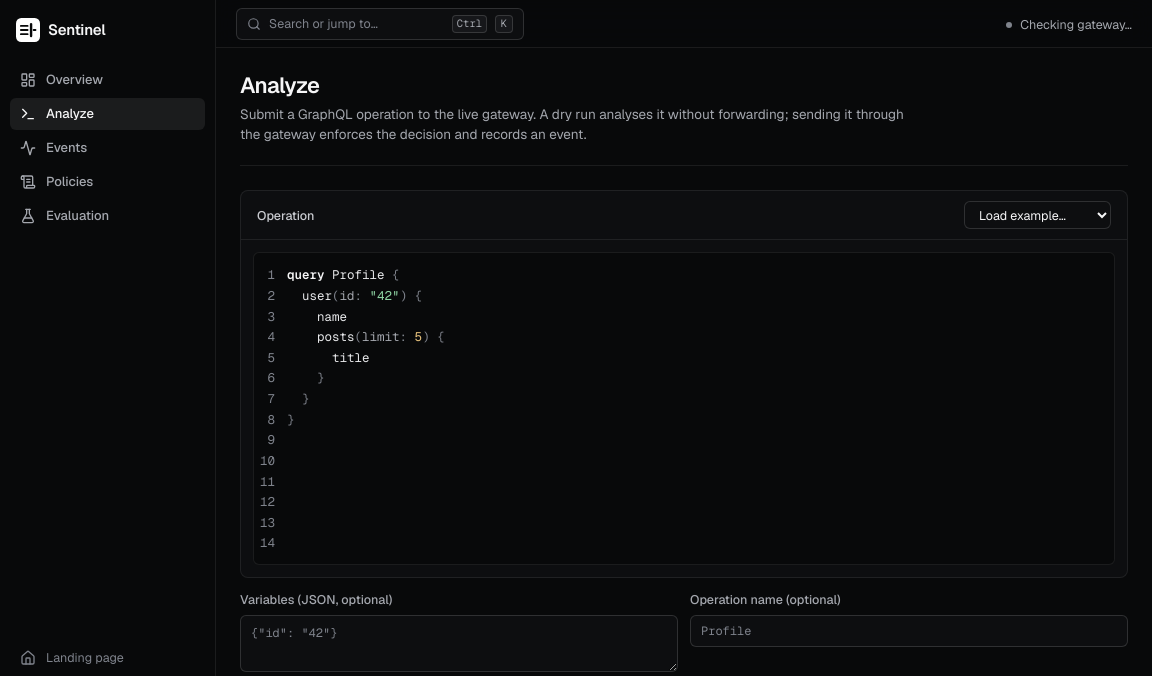
it: rejects variables that are not a JSON object
The image size is (1152, 676).
Expected: the text box named "GraphQL operation" is shown, [287,253,1114,564]
In the text box labelled "Variables (JSON, optional)": (459, 644) [240,616,678,672], type "[1,2]"
(page scrolled)
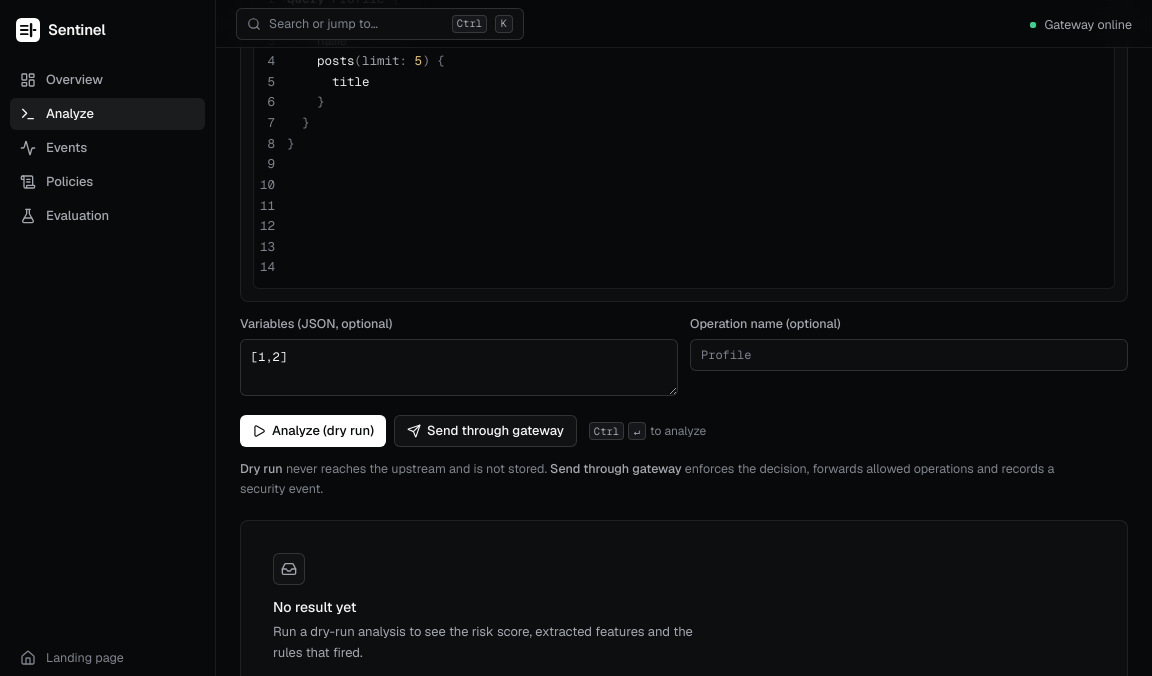
Click the button "Analyze (dry run)": (313, 431) [240,415,386,447]
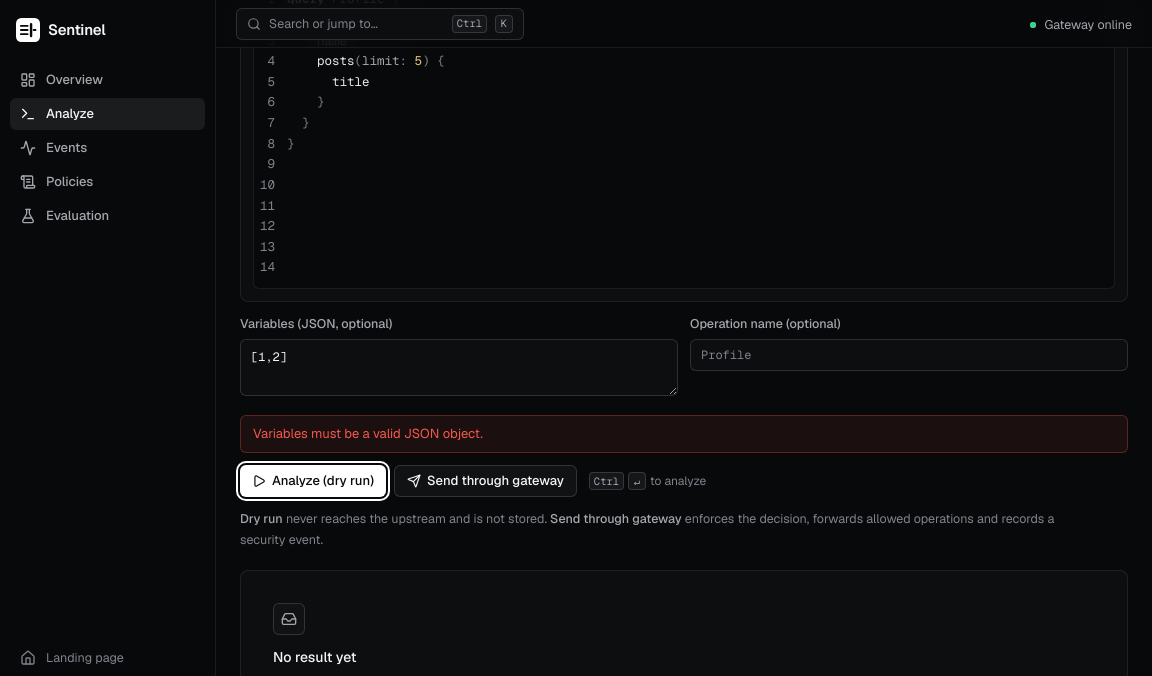
Expected: the text "Variables must be a valid JSON object." is shown, [240,415,1128,453]
